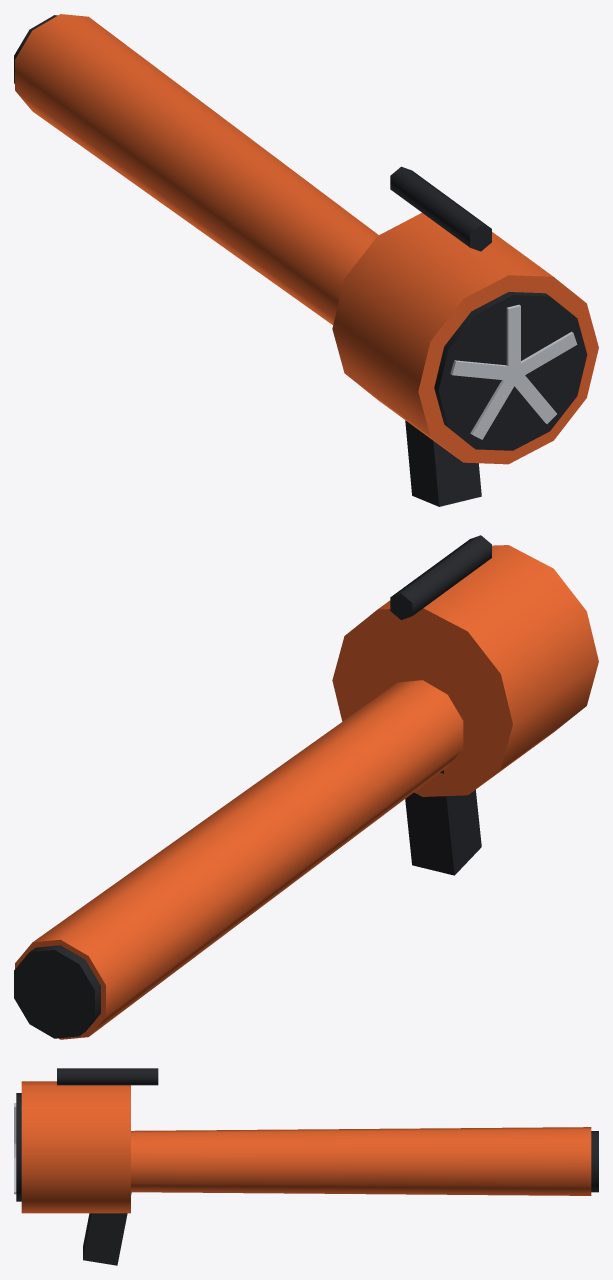
File: tool_blower.glb
3 renders of one model, top to bottom at view 1: azimuth 30°, elevation 25°; view 2: azimuth 150°, elevation 25°; view 3: azimuth 270°, elevation 25°, orthographic. The views are drawn at different scales.
Parts seen in each view (by area): view 1: _MeshInstance3D_1199, _MeshInstance3D_1192, _MeshInstance3D_1193, _MeshInstance3D_1191, _MeshInstance3D_1201, _MeshInstance3D_1196, _MeshInstance3D_1194, _MeshInstance3D_1195, _MeshInstance3D_1198, _MeshInstance3D_1197; view 2: _MeshInstance3D_1199, _MeshInstance3D_1192, _MeshInstance3D_1200, _MeshInstance3D_1191, _MeshInstance3D_1201; view 3: _MeshInstance3D_1199, _MeshInstance3D_1192, _MeshInstance3D_1191, _MeshInstance3D_1201, _MeshInstance3D_1193, _MeshInstance3D_1200.
Part boxes in pixels (bbox=[...]): _MeshInstance3D_1199: bbox=[15, 14, 378, 324]; _MeshInstance3D_1192: bbox=[332, 213, 598, 464]; _MeshInstance3D_1193: bbox=[434, 292, 587, 450]; _MeshInstance3D_1191: bbox=[405, 420, 481, 506]; _MeshInstance3D_1201: bbox=[390, 166, 491, 251]; _MeshInstance3D_1196: bbox=[470, 372, 519, 439]; _MeshInstance3D_1194: bbox=[506, 304, 520, 375]; _MeshInstance3D_1195: bbox=[450, 360, 515, 380]; _MeshInstance3D_1198: bbox=[514, 331, 577, 377]; _MeshInstance3D_1197: bbox=[513, 369, 556, 423]; _MeshInstance3D_1199: bbox=[15, 680, 463, 1039]; _MeshInstance3D_1192: bbox=[332, 545, 598, 796]; _MeshInstance3D_1200: bbox=[14, 945, 100, 1038]; _MeshInstance3D_1191: bbox=[405, 770, 481, 875]; _MeshInstance3D_1201: bbox=[390, 535, 491, 620]; _MeshInstance3D_1199: bbox=[131, 1127, 591, 1195]; _MeshInstance3D_1192: bbox=[21, 1081, 130, 1213]; _MeshInstance3D_1191: bbox=[83, 1192, 131, 1265]; _MeshInstance3D_1201: bbox=[57, 1068, 158, 1085]; _MeshInstance3D_1193: bbox=[16, 1093, 21, 1201]; _MeshInstance3D_1200: bbox=[591, 1131, 598, 1192].
Bounding box in the file's own units: 0.17 × 0.2701 × 0.75.
